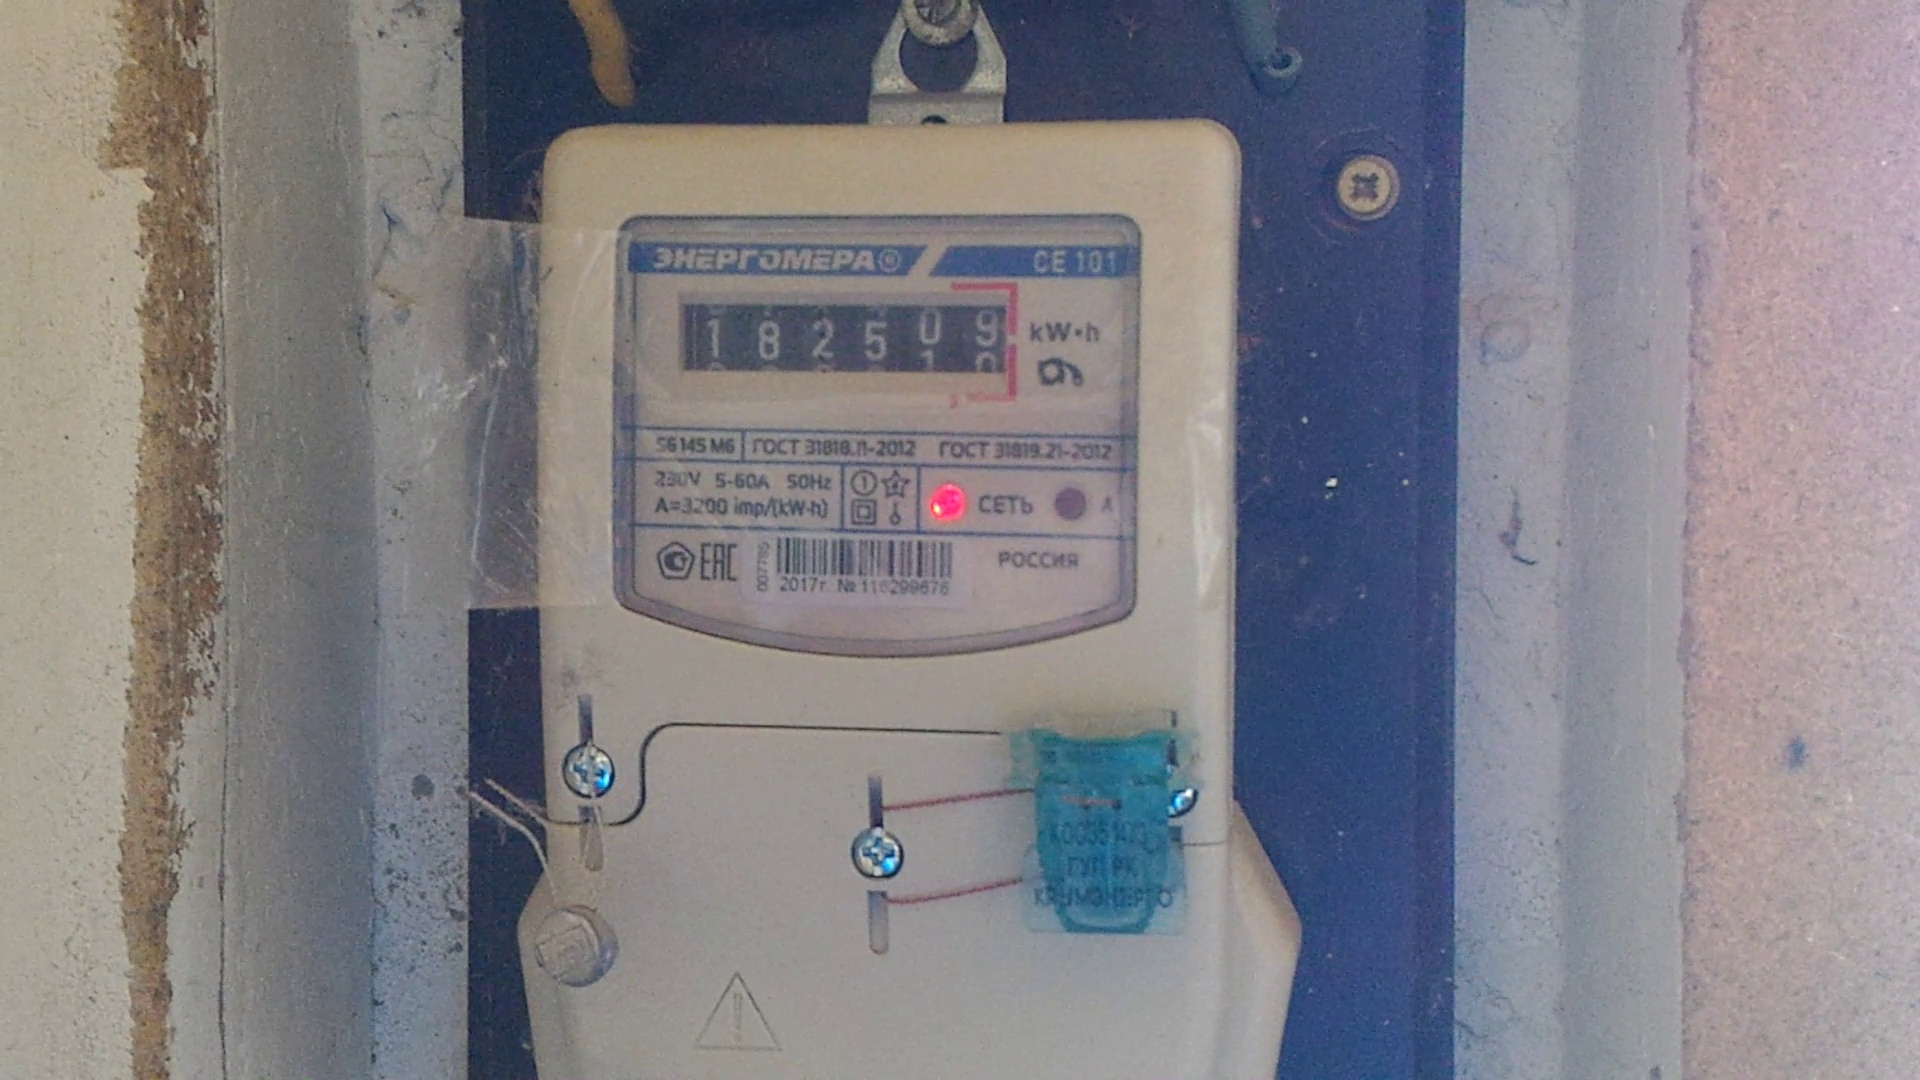counter: (541, 125, 1240, 1080)
counter_screen: (678, 299, 1011, 377)
